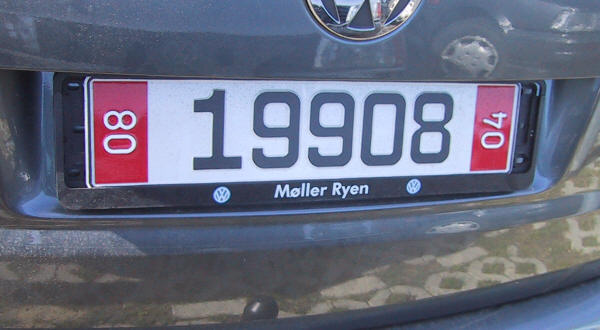license_plate: (86, 77, 522, 189)
